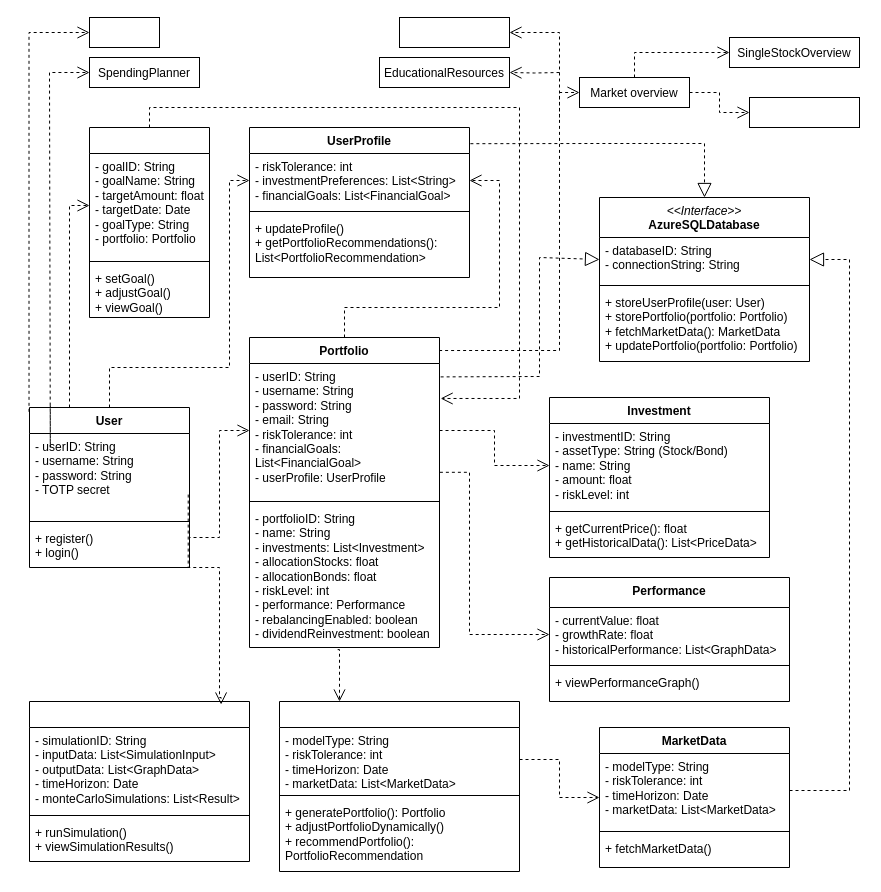
This 881x892 diagram has some shape labels left out. Each missing label, with the box of its shape:
ChatAdvisor: (398, 16, 510, 48)
FinancialGoal: (88, 126, 210, 318)
FuturePlanner: (28, 700, 250, 862)
News: (88, 16, 160, 48)
PortfolioEngine: (278, 700, 520, 872)
WatchList: (748, 96, 860, 128)
